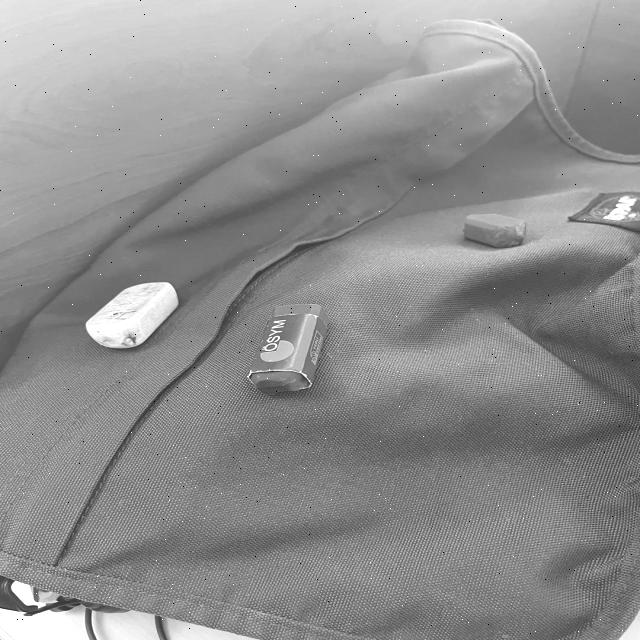eraser: (242, 293, 334, 416), (94, 266, 185, 352), (445, 203, 531, 255)
